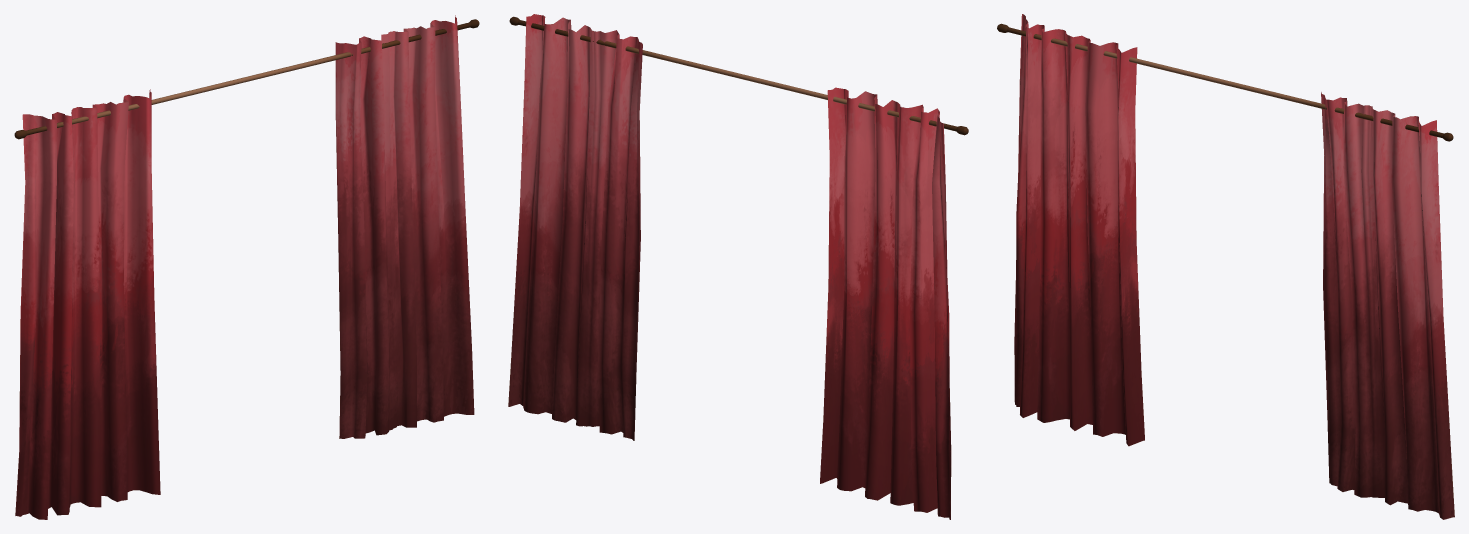
File: Curtains_textured.fbx
3 renders of one model, left to right at view 1: azimuth 30°, elevation 25°; view 2: azimuth 150°, elevation 25°; view 3: azimuth 330°, elevation 25°, orthographic.
Parts seen in each view (by area): view 1: curtains; view 2: curtains; view 3: curtains.
Boxes of the visible parts, left/top/right/bottom form: curtains: left=14, top=15, right=479, bottom=519; curtains: left=508, top=14, right=968, bottom=519; curtains: left=997, top=14, right=1454, bottom=519.
Bounding box in the file's own units: 366 × 302 × 23.23.
Materials: 1 (1 with a texture image).
